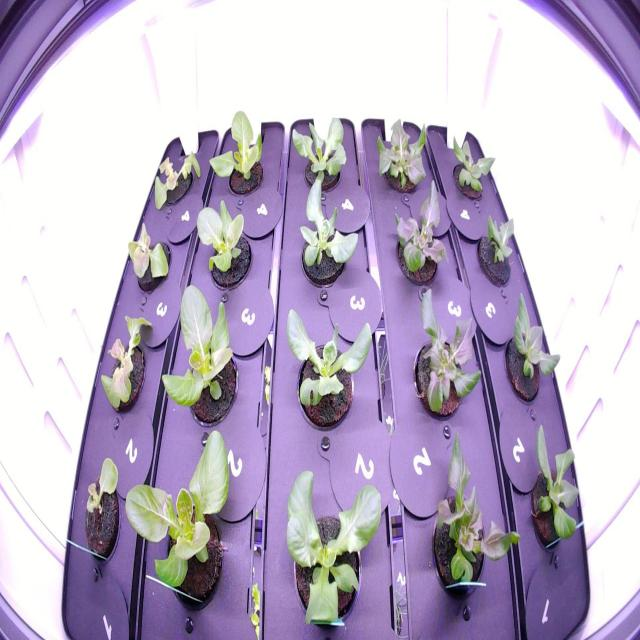young: (119, 415, 252, 615), (272, 449, 393, 635), (423, 424, 525, 619), (270, 297, 386, 455), (154, 274, 252, 440), (401, 281, 484, 430), (519, 418, 587, 576), (285, 165, 363, 294), (496, 287, 566, 418), (189, 184, 263, 300), (282, 101, 360, 202), (387, 174, 455, 288), (205, 102, 275, 210), (96, 304, 157, 418), (368, 111, 436, 205), (78, 446, 125, 579), (471, 206, 524, 300), (137, 144, 205, 216), (443, 131, 501, 208), (123, 216, 174, 294)
